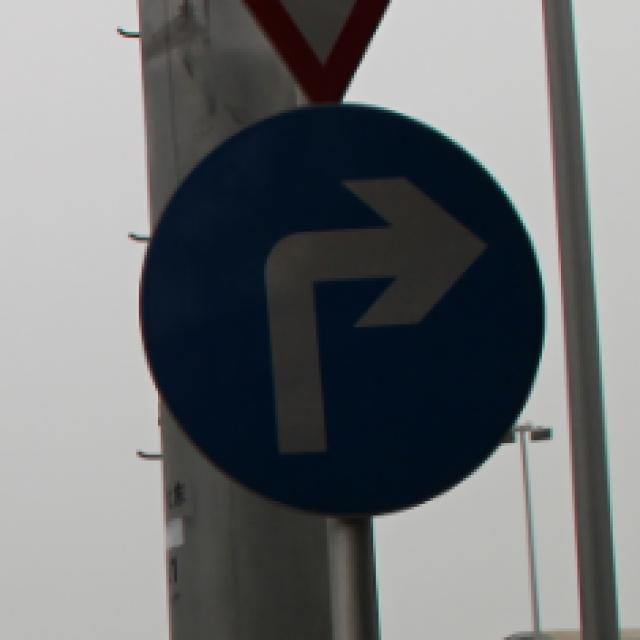Right: (139, 88, 553, 514)
